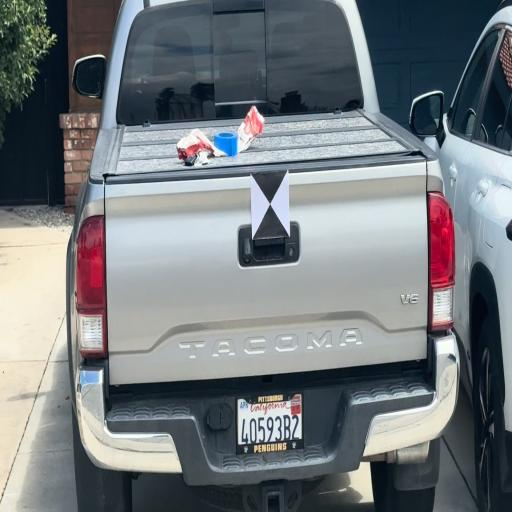target: (250, 173, 290, 237)
